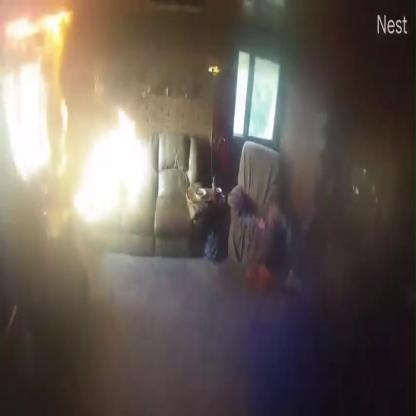fire: (2, 1, 82, 61)
